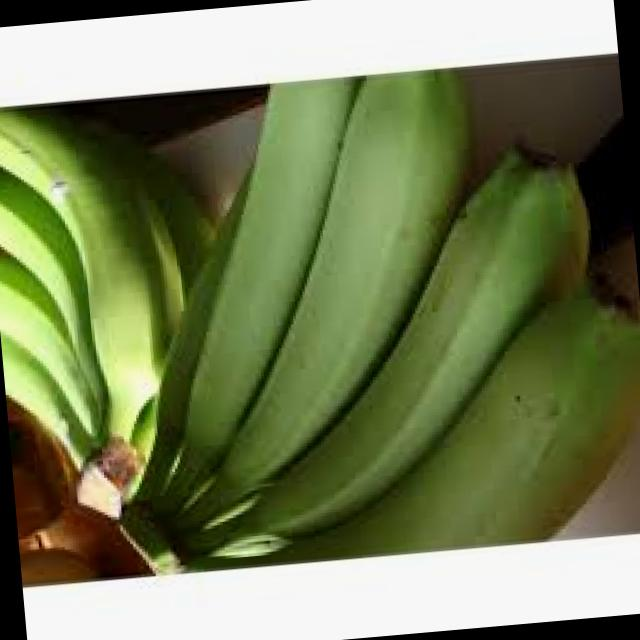Banana: (86, 49, 640, 577), (0, 90, 238, 528)
